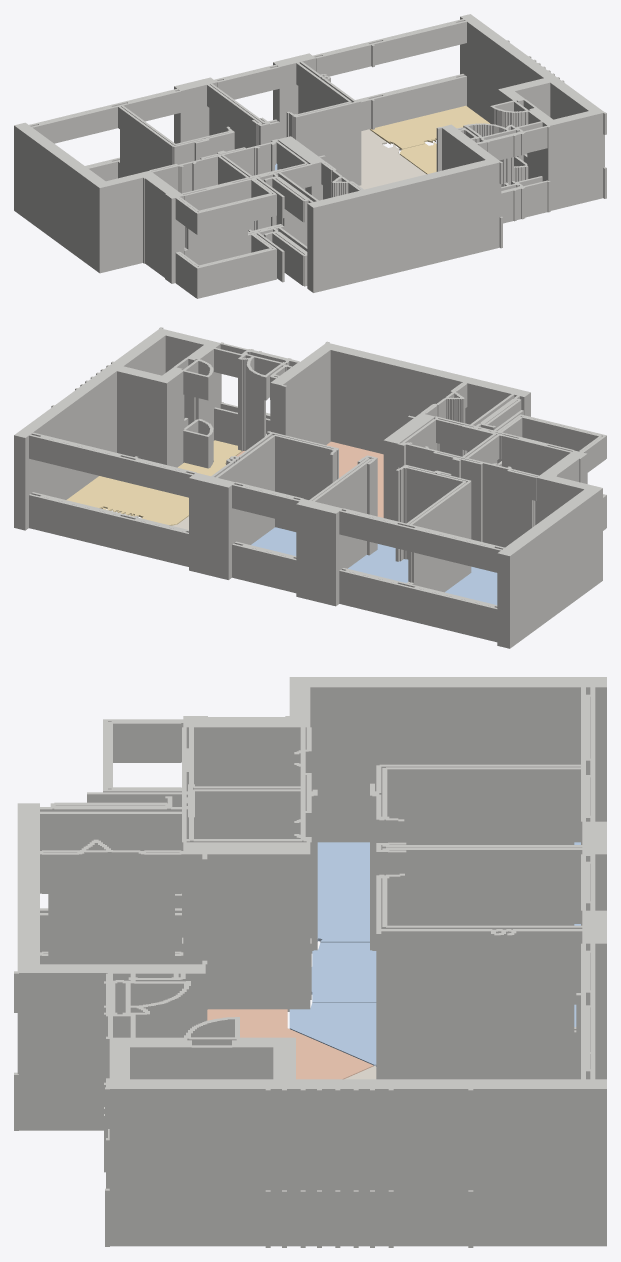
The picture shows the model from 3 angles, top to bottom: view 1: azimuth 30°, elevation 25°; view 2: azimuth 150°, elevation 25°; view 3: azimuth 270°, elevation 25°; orthographic projection. The views are drawn at different scales.
Parts seen in each view (by area): view 1: walls, room:living:5, room:other:4, room:living:6; view 2: walls, room:living:6, room:bedroom:1, room:bedroom:13, room:kitchen:11, room:bedroom:0; view 3: walls, room:bedroom:13, room:kitchen:11, room:bedroom:0, room:bedroom:1.
Part boxes in pixels (left/top/right/bottom): walls: left=14, top=14, right=606, bottom=298; room:living:5: left=370, top=105, right=490, bottom=149; room:other:4: left=359, top=129, right=426, bottom=189; room:living:6: left=399, top=142, right=436, bottom=174; walls: left=14, top=327, right=606, bottom=648; room:living:6: left=66, top=440, right=241, bottom=525; room:bedroom:1: left=348, top=544, right=408, bottom=582; room:bedroom:13: left=445, top=566, right=497, bottom=604; room:kitchen:11: left=226, top=441, right=383, bottom=517; room:bedroom:0: left=251, top=527, right=296, bottom=555; walls: left=14, top=677, right=606, bottom=1247; room:bedroom:13: left=317, top=842, right=580, bottom=942; room:kitchen:11: left=207, top=1009, right=373, bottom=1079; room:bedroom:0: left=289, top=1003, right=576, bottom=1066; room:bedroom:1: left=311, top=924, right=580, bottom=1002.
Size of the model in its own units: 15.75 by 2.8 by 9.55.
